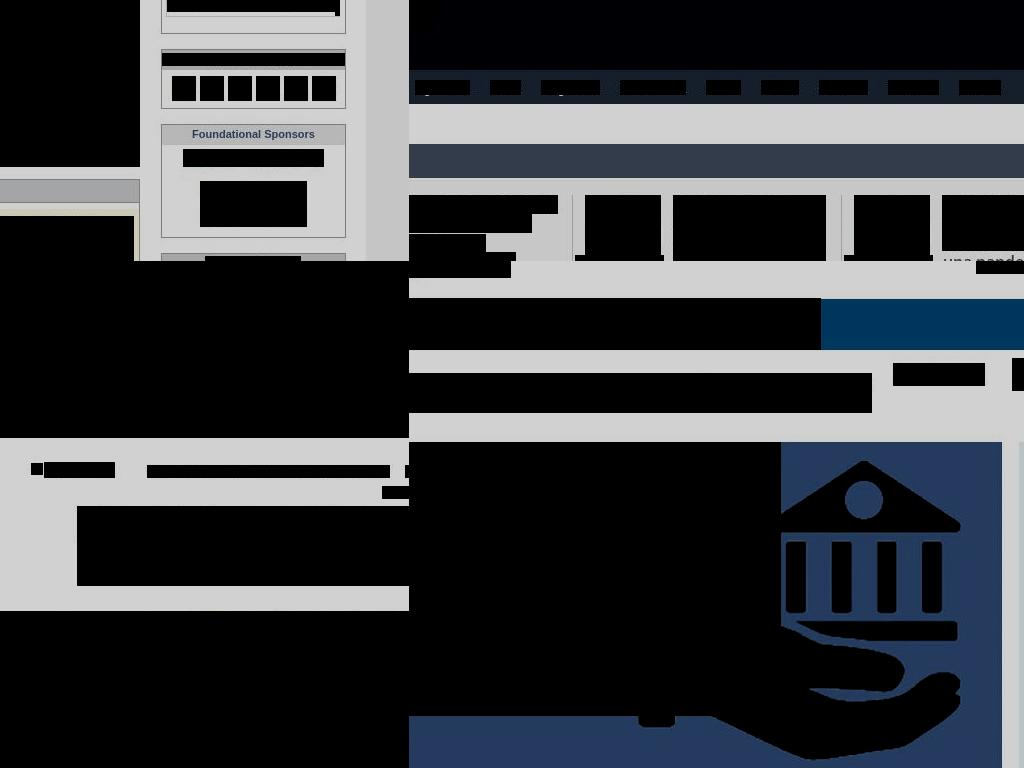button: (0, 611, 409, 768), (491, 298, 691, 350), (673, 195, 826, 261), (691, 298, 821, 350), (942, 195, 1024, 261), (409, 298, 491, 350), (305, 410, 409, 426), (108, 410, 210, 426), (357, 361, 409, 383), (226, 410, 289, 426), (620, 80, 686, 95), (541, 80, 600, 95), (415, 80, 470, 95), (888, 80, 939, 95), (819, 80, 868, 95), (50, 410, 92, 426), (959, 80, 1001, 95), (172, 76, 196, 101), (200, 76, 224, 101), (228, 76, 252, 101), (256, 76, 280, 101), (284, 76, 308, 101), (312, 76, 336, 101), (761, 80, 799, 95), (575, 255, 664, 261), (844, 255, 933, 261), (706, 80, 741, 95), (490, 80, 521, 95)
field: (167, 0, 336, 12)
heading: (409, 373, 872, 413), (409, 459, 764, 499), (162, 53, 345, 66), (192, 128, 316, 141), (409, 298, 447, 338), (44, 462, 115, 478), (205, 256, 301, 261), (31, 463, 43, 475)
iframe: (77, 261, 409, 313)
image: (0, 611, 409, 768), (0, 261, 409, 347), (0, 0, 140, 167), (585, 195, 661, 261), (854, 195, 930, 261), (200, 181, 307, 227), (183, 149, 324, 167), (357, 361, 409, 383), (0, 360, 10, 383)
link: (77, 506, 409, 586), (409, 649, 719, 697), (409, 599, 745, 622), (0, 216, 134, 261), (147, 465, 390, 478), (893, 363, 985, 386), (382, 486, 409, 499)
text: (409, 506, 764, 582), (673, 233, 826, 255), (673, 195, 826, 214), (409, 195, 558, 214), (673, 215, 796, 237), (409, 214, 532, 233), (942, 215, 1024, 237), (942, 233, 1024, 255), (409, 261, 511, 278), (409, 234, 486, 256), (942, 195, 1024, 214), (673, 251, 807, 261), (409, 252, 516, 261), (409, 649, 449, 672), (942, 251, 1024, 261), (1012, 358, 1024, 391), (335, 0, 340, 16)
